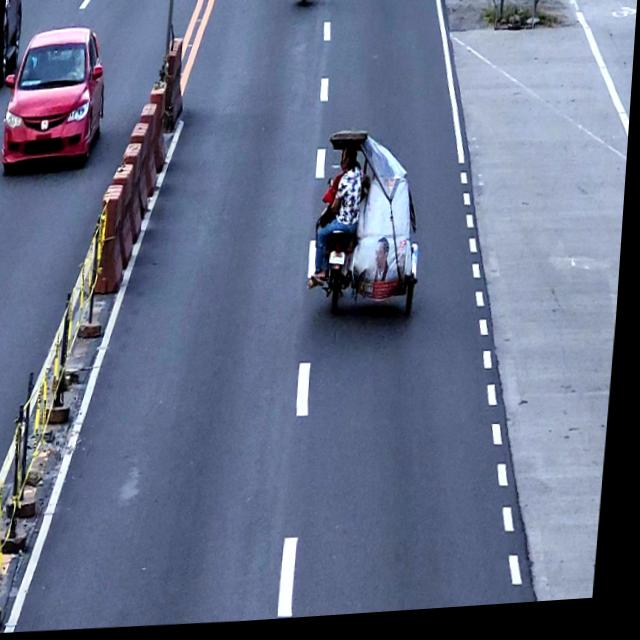Car: (0, 24, 111, 173), (0, 0, 24, 90)
License-Plate: (332, 254, 349, 270)
Tricycle: (308, 128, 433, 325)
